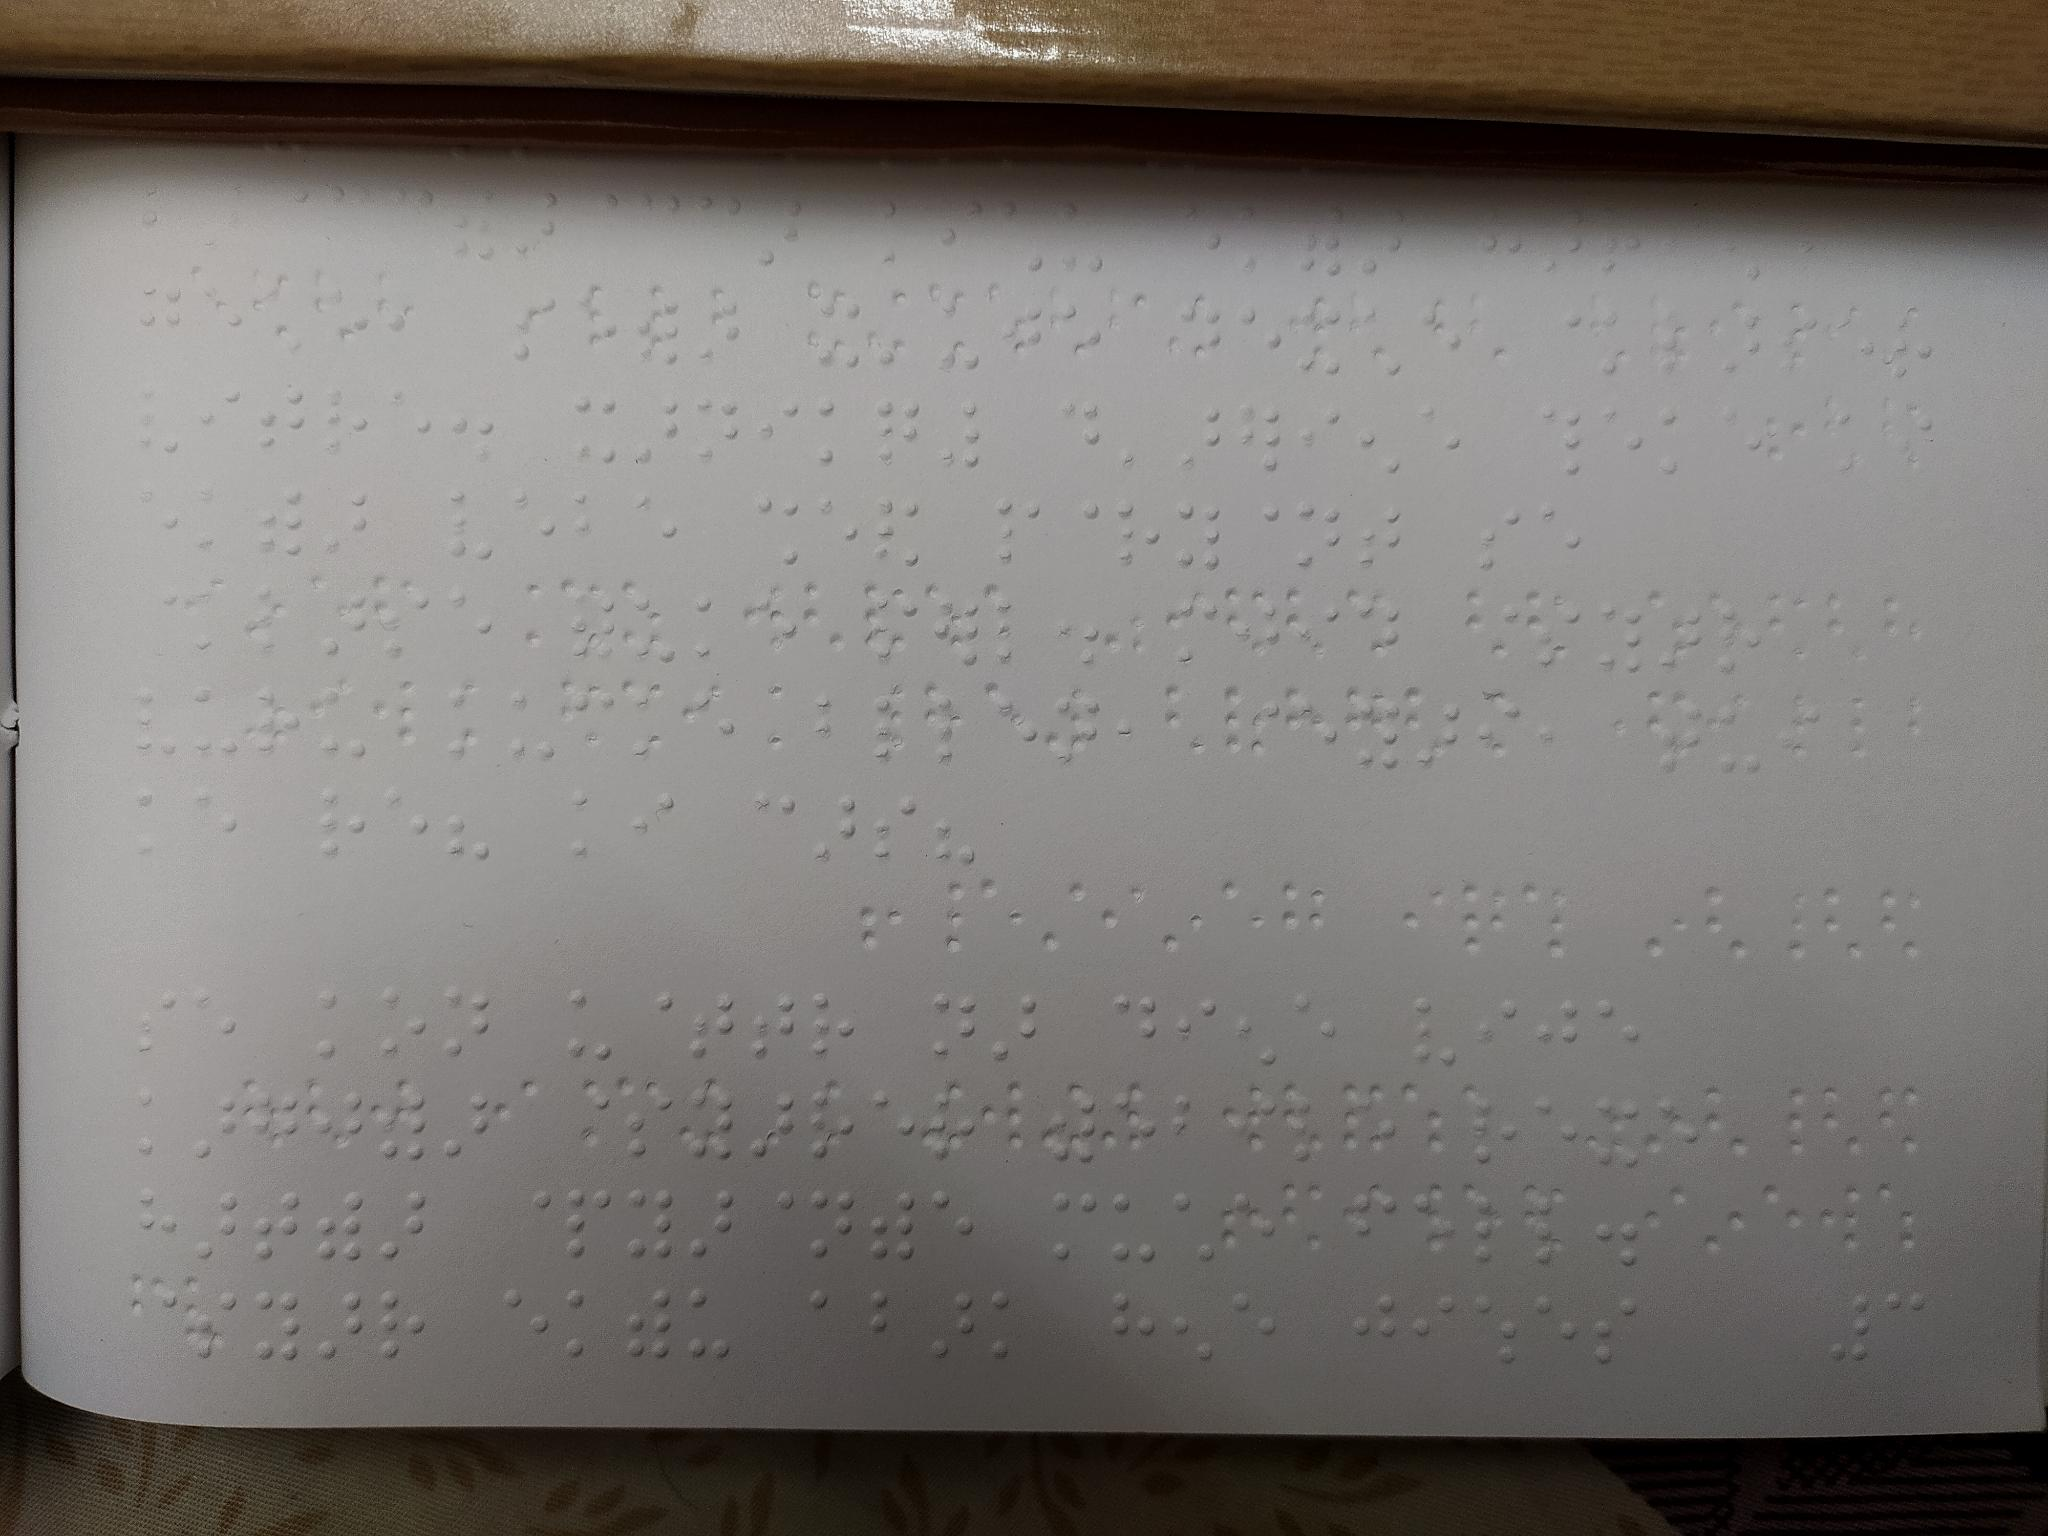a: (740, 1068, 798, 1175), (1706, 294, 1769, 390), (313, 578, 379, 668), (1168, 395, 1234, 482), (987, 984, 1055, 1068), (311, 473, 373, 565), (313, 1279, 376, 1368), (681, 1178, 740, 1270), (805, 783, 860, 878), (1411, 692, 1471, 779), (369, 1183, 434, 1262), (751, 189, 814, 269), (1532, 197, 1595, 278), (692, 282, 747, 374), (443, 1083, 498, 1175), (627, 382, 681, 476), (505, 184, 563, 266), (1356, 195, 1413, 278), (921, 1284, 977, 1367), (194, 176, 253, 252), (190, 1184, 245, 1265), (1648, 594, 1701, 676), (185, 1081, 239, 1163)
aw: (801, 1284, 864, 1357)
b: (1163, 1081, 1221, 1163), (566, 479, 622, 560), (866, 1284, 918, 1363), (132, 173, 182, 248), (818, 684, 863, 758)
bh: (440, 478, 506, 573), (127, 374, 190, 470), (1401, 984, 1459, 1071), (131, 679, 185, 765)
ch: (589, 179, 656, 273), (558, 681, 619, 774), (656, 177, 719, 268), (748, 779, 803, 873), (287, 173, 353, 242), (350, 168, 403, 244)
chh: (1353, 286, 1416, 387), (1172, 1179, 1230, 1275), (252, 266, 311, 357), (989, 192, 1043, 276)
d: (1168, 287, 1235, 378), (1053, 386, 1114, 465), (1105, 986, 1168, 1062), (1347, 589, 1408, 666)
dd: (563, 579, 627, 670)
e: (376, 766, 445, 883), (1340, 1079, 1406, 1170), (1592, 994, 1661, 1075), (1164, 189, 1234, 268), (1829, 287, 1885, 384), (1288, 979, 1351, 1063), (1416, 387, 1476, 474), (318, 266, 376, 355), (379, 376, 439, 461), (1706, 390, 1766, 476), (747, 578, 803, 668), (1106, 1083, 1169, 1163), (505, 476, 563, 563), (1527, 1286, 1588, 1368), (1288, 682, 1350, 762), (190, 779, 247, 865), (626, 478, 685, 558), (1226, 1284, 1285, 1365), (1235, 286, 1290, 373), (808, 481, 866, 563), (129, 479, 185, 563), (190, 271, 248, 352), (1532, 492, 1593, 568), (1421, 287, 1474, 374), (500, 1284, 555, 1368), (440, 579, 498, 658), (1595, 390, 1646, 479), (985, 689, 1045, 765), (190, 979, 242, 1066), (927, 1184, 985, 1262), (1405, 1184, 1459, 1263), (1232, 1184, 1290, 1257), (685, 687, 743, 758), (1529, 1091, 1587, 1162), (566, 284, 619, 360), (1651, 1092, 1708, 1163), (1059, 292, 1109, 368), (868, 1084, 919, 1157), (1772, 211, 1821, 282), (1143, 718, 1150, 718)
g: (240, 1086, 306, 1163), (137, 269, 189, 350)
h: (1105, 1284, 1168, 1370), (131, 1181, 185, 1262), (1472, 198, 1529, 274)
i: (1458, 979, 1526, 1075), (624, 784, 690, 876), (1885, 399, 1950, 484), (192, 373, 247, 466), (1467, 686, 1527, 770), (1219, 1087, 1284, 1163), (1779, 694, 1834, 783), (930, 189, 987, 274), (747, 386, 801, 466), (1171, 984, 1229, 1058), (1293, 395, 1348, 473), (1653, 205, 1708, 279), (1297, 584, 1343, 662), (1416, 1286, 1463, 1363)
j: (677, 1079, 748, 1175), (247, 1283, 316, 1375), (1588, 592, 1648, 684), (1229, 584, 1292, 671), (1355, 689, 1413, 783), (621, 1183, 682, 1270), (1171, 494, 1229, 581), (308, 1084, 368, 1167), (1345, 1286, 1406, 1363), (1535, 994, 1587, 1068), (1000, 295, 1051, 368)
k: (621, 674, 677, 779), (868, 186, 927, 276), (805, 384, 860, 478), (1230, 190, 1287, 281), (189, 474, 242, 570), (1829, 399, 1887, 486), (1651, 390, 1703, 486), (563, 1278, 613, 1368), (305, 984, 358, 1068), (439, 682, 489, 771), (129, 1078, 184, 1158), (134, 783, 182, 871), (685, 587, 735, 673), (190, 578, 239, 665), (1592, 302, 1642, 381), (982, 1286, 1035, 1360), (561, 783, 611, 857)
kh: (1292, 294, 1351, 386), (1590, 1092, 1655, 1176), (566, 386, 627, 473), (814, 289, 871, 371)
kkh: (869, 384, 924, 470)
l: (1521, 1181, 1584, 1284), (914, 674, 974, 778), (1643, 294, 1701, 382), (247, 578, 305, 665), (1464, 1181, 1516, 1276), (985, 584, 1034, 676), (1284, 1089, 1337, 1168), (863, 686, 913, 766)
m: (1047, 1186, 1105, 1270), (1172, 589, 1229, 668)
n: (435, 970, 500, 1063), (1285, 494, 1353, 579), (1043, 689, 1111, 771), (929, 381, 989, 471), (687, 382, 743, 476), (805, 1178, 861, 1268), (926, 987, 989, 1065)
o: (366, 978, 440, 1075)
p: (856, 584, 922, 678), (989, 489, 1053, 574), (560, 1178, 616, 1271)
ph: (1348, 1173, 1406, 1258)
r: (305, 774, 376, 881), (924, 584, 987, 679), (244, 679, 310, 766), (924, 1078, 982, 1175), (1463, 1089, 1530, 1171), (1890, 290, 1945, 390), (800, 1079, 861, 1163), (806, 983, 864, 1068), (1235, 392, 1290, 479), (316, 376, 371, 460), (1713, 592, 1764, 681), (374, 1284, 431, 1363), (1595, 205, 1650, 284), (1113, 495, 1164, 573)
s: (1592, 1288, 1651, 1388), (127, 979, 190, 1066), (377, 581, 439, 670), (863, 786, 926, 870), (1771, 295, 1825, 389), (1476, 492, 1529, 582), (181, 1283, 242, 1360), (508, 281, 563, 366), (1529, 589, 1585, 671), (622, 1084, 677, 1165)
sh: (866, 484, 940, 578), (753, 484, 813, 570)
t: (610, 1284, 681, 1370), (369, 1086, 440, 1170), (442, 179, 502, 276), (247, 473, 306, 568), (252, 369, 313, 461), (684, 992, 747, 1078), (868, 1179, 922, 1273), (1295, 192, 1351, 281), (631, 286, 687, 374), (1043, 1086, 1103, 1170), (308, 1187, 368, 1268), (1356, 489, 1409, 576), (1650, 691, 1705, 774), (248, 1186, 302, 1267), (750, 991, 801, 1068)
th: (1535, 389, 1595, 489)
u: (493, 682, 556, 783), (621, 579, 684, 678), (1713, 695, 1772, 799), (306, 676, 368, 771), (1050, 192, 1109, 282), (556, 989, 626, 1063), (1101, 1186, 1163, 1267), (681, 1279, 737, 1365), (187, 684, 244, 766), (937, 290, 989, 373)
y: (1348, 394, 1413, 481), (1232, 984, 1290, 1073), (1166, 1286, 1226, 1368), (1716, 216, 1767, 286)
